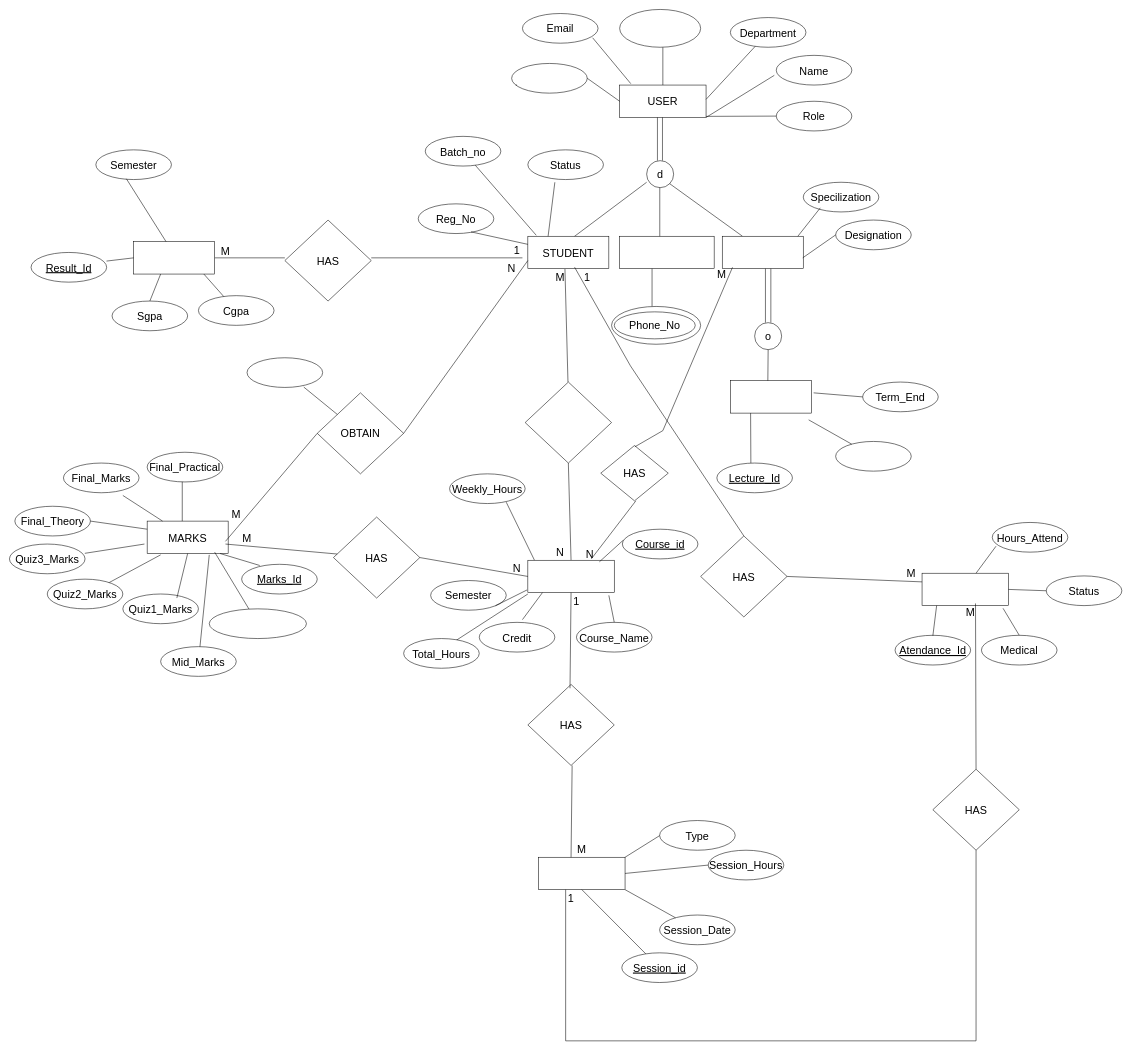
The diagram is 1131 pixels wide and 1051 high, and some of its shapes have lost their labels. Here are the shapes that lost their labels. From the top down, the centre of each, then its label:
point 660,28: Password
point 549,78: User_Id
point 174,257: RESULT
point 666,252: TECH_OFFICER
point 762,252: LECTURE
point 285,372: Grade
point 770,396: DEAN
point 568,422: STUDYING
point 873,456: Term_Start
point 570,576: COURSE
point 965,589: ATTENDANCE
point 257,623: Assesment_Marks
point 581,873: SESSION
